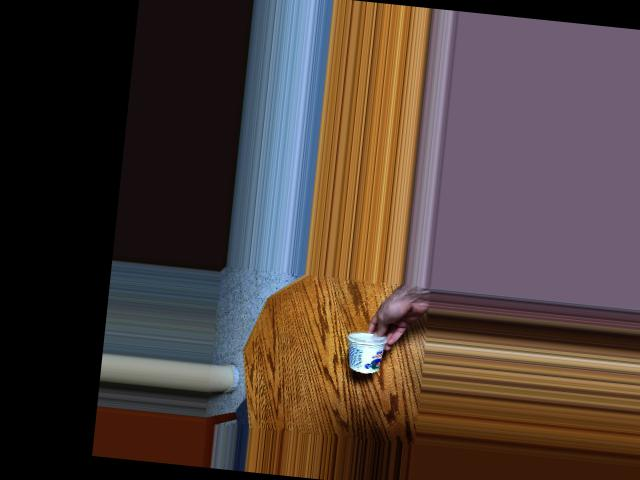cotage: (338, 321, 392, 372)
